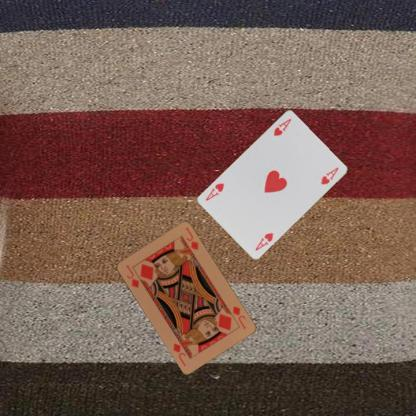Ah: (252, 230, 274, 252), (271, 115, 292, 137)
Jd: (226, 303, 248, 330), (123, 262, 140, 290)
